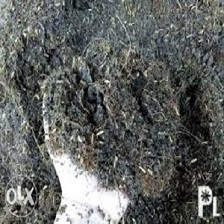loamy_soil: (14, 31, 218, 188)
